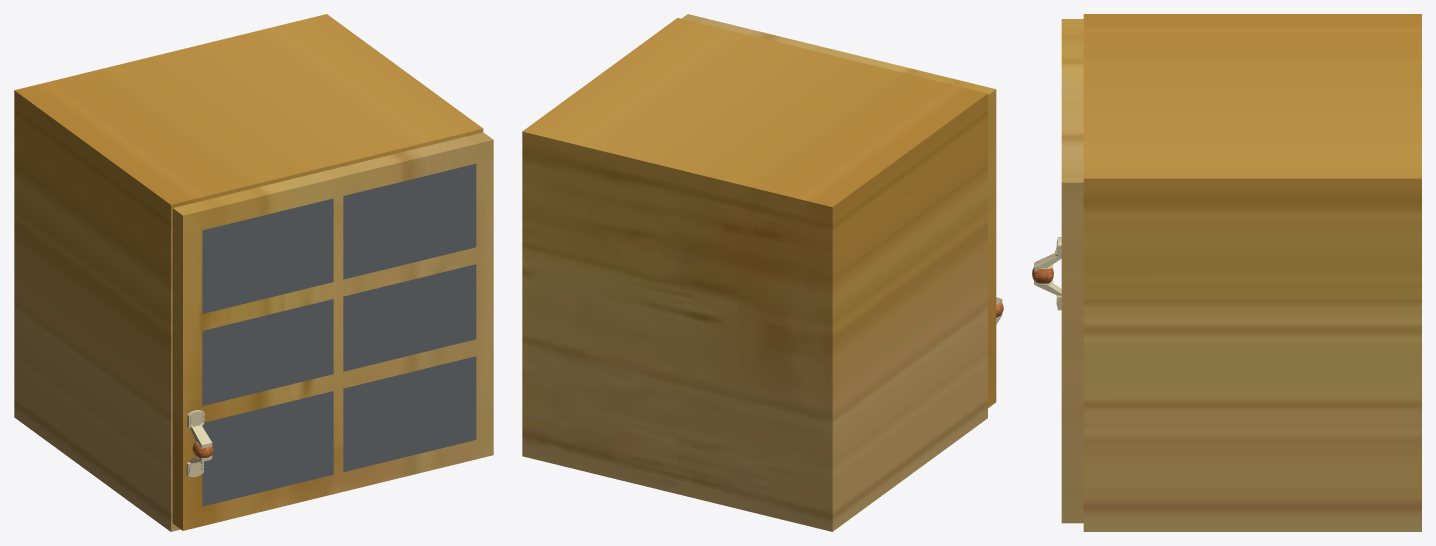
Rendered from sh-contrib-1-glass-door-cabinet.glb.
The picture shows the model from 3 angles, left to right: view 1: azimuth 30°, elevation 25°; view 2: azimuth 150°, elevation 25°; view 3: azimuth 270°, elevation 25°; orthographic projection. The views are drawn at different scales.
Parts seen in each view (by area): view 1: PolyMesh_9, sweethome3d_window_pane, Tube_1; view 2: PolyMesh_9; view 3: PolyMesh_9, Tube_1.
Boxes of the visible parts, left/top/right/bottom form: PolyMesh_9: left=14, top=14, right=493, bottom=531; sweethome3d_window_pane: left=202, top=163, right=476, bottom=506; Tube_1: left=186, top=410, right=212, bottom=477; PolyMesh_9: left=522, top=14, right=996, bottom=531; PolyMesh_9: left=1061, top=14, right=1421, bottom=531; Tube_1: left=1034, top=237, right=1061, bottom=310.
Size of the model in its own units: 1 by 1 by 1.
4 materials, 2 textured.
